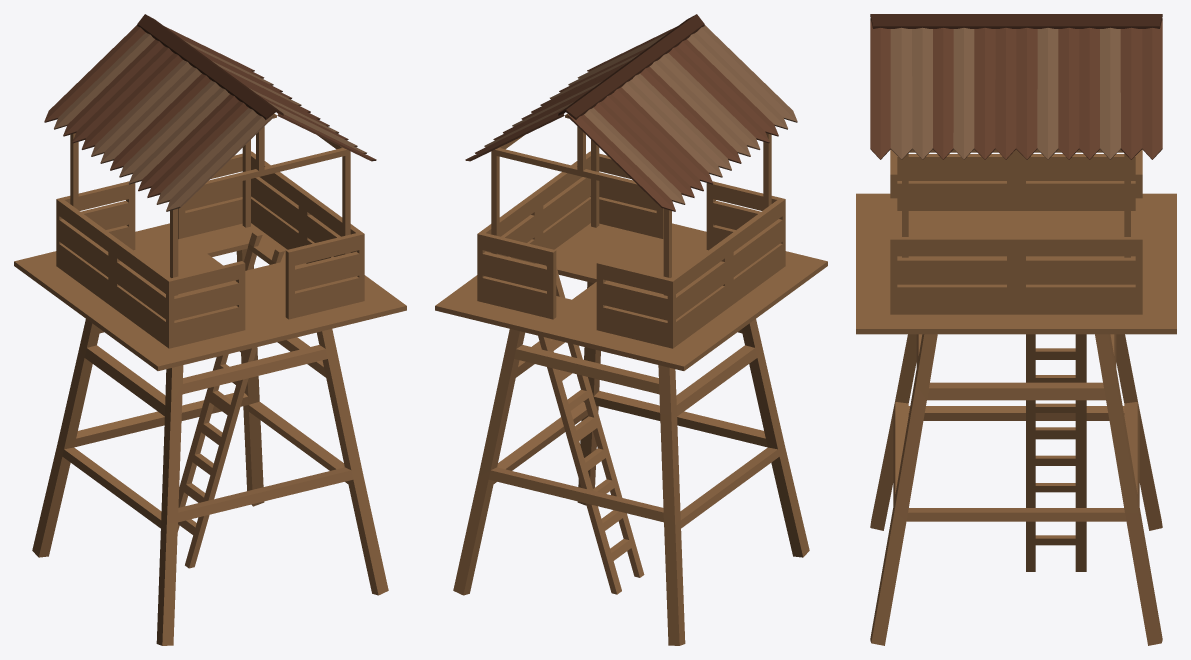
The model's file is ATT.fbx.
3 renders of one model, left to right at view 1: azimuth 30°, elevation 25°; view 2: azimuth 150°, elevation 25°; view 3: azimuth 270°, elevation 25°, orthographic. The views are drawn at different scales.
Visible parts, largest first — view 1: cialo; view 2: cialo; view 3: cialo.
Boxes of the visible parts, x1,y1,x2,y2 form: cialo: [14, 14, 406, 645]; cialo: [435, 14, 827, 645]; cialo: [856, 14, 1176, 645].
Size of the model in its own units: 700 by 1379 by 700.
